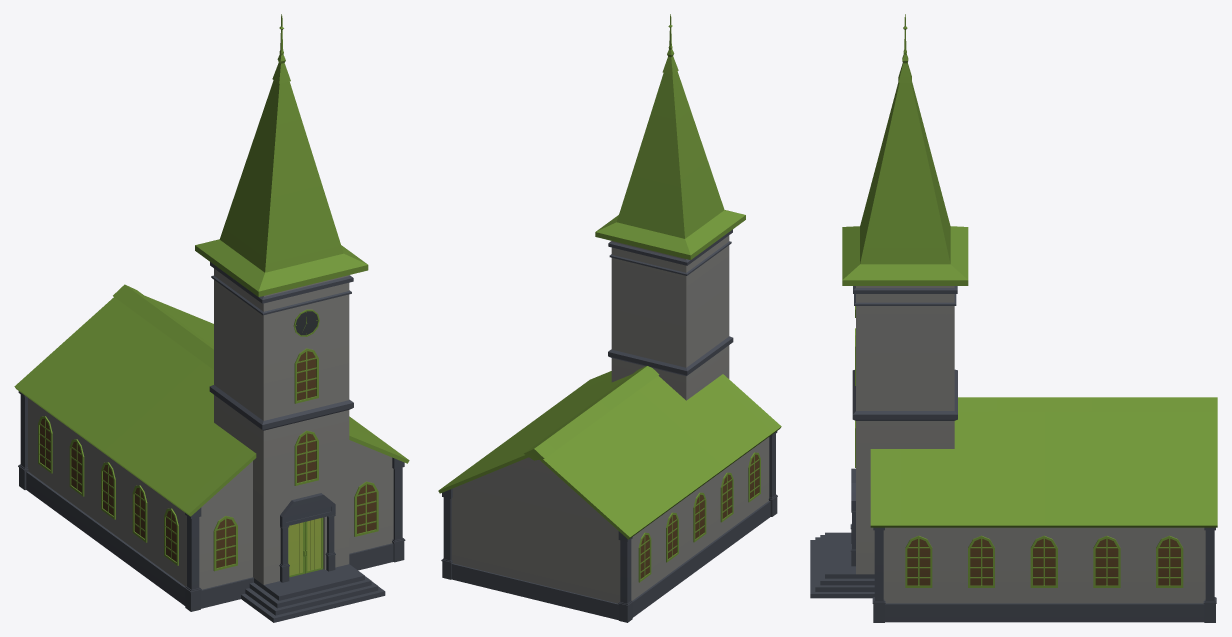
Rendered from Church_02.fbx.
The picture shows the model from 3 angles, left to right: view 1: azimuth 30°, elevation 25°; view 2: azimuth 150°, elevation 25°; view 3: azimuth 270°, elevation 25°; orthographic projection. The views are drawn at different scales.
Parts seen in each view (by area): view 1: Church_02; view 2: Church_02; view 3: Church_02.
Part boxes in pixels (left/top/right/bottom): Church_02: left=14, top=14, right=409, bottom=622; Church_02: left=438, top=14, right=781, bottom=622; Church_02: left=810, top=14, right=1217, bottom=622.
Bounding box in the file's own units: 12.87 × 31.22 × 20.68.
